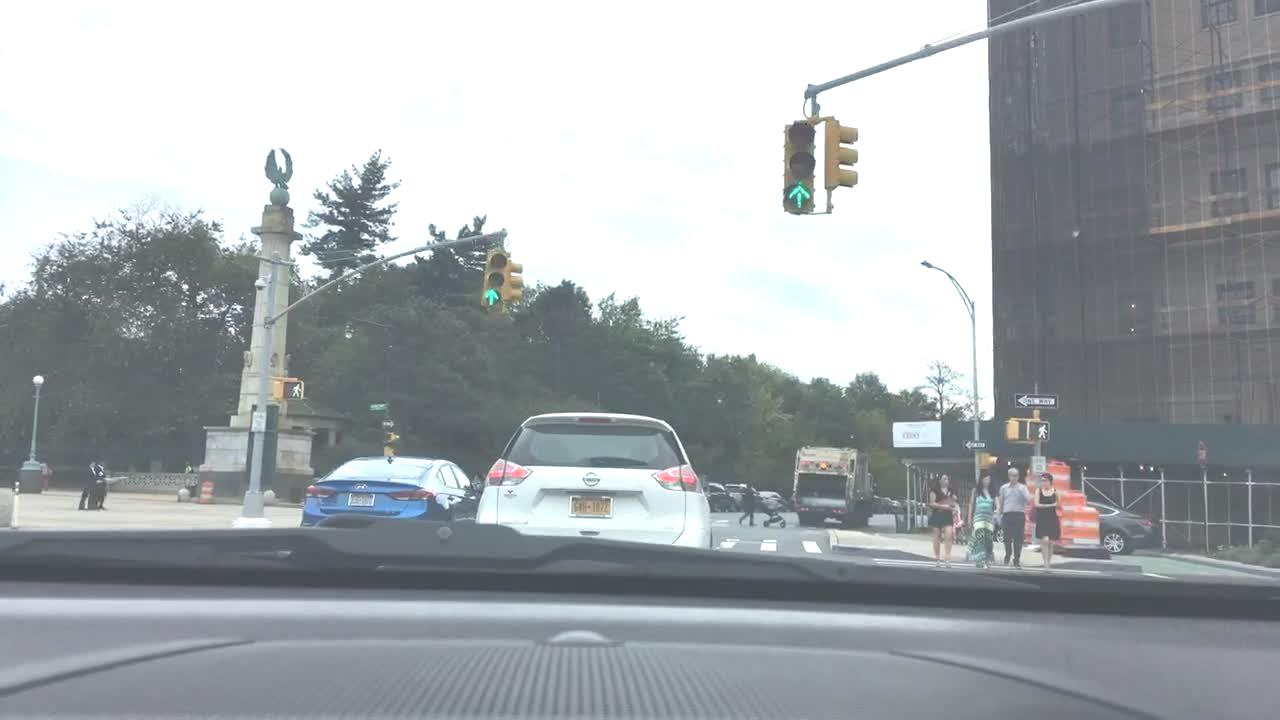Nissan: (576, 461, 614, 496)
